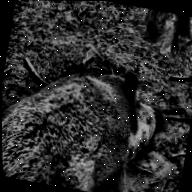boar: (1, 47, 184, 192)
